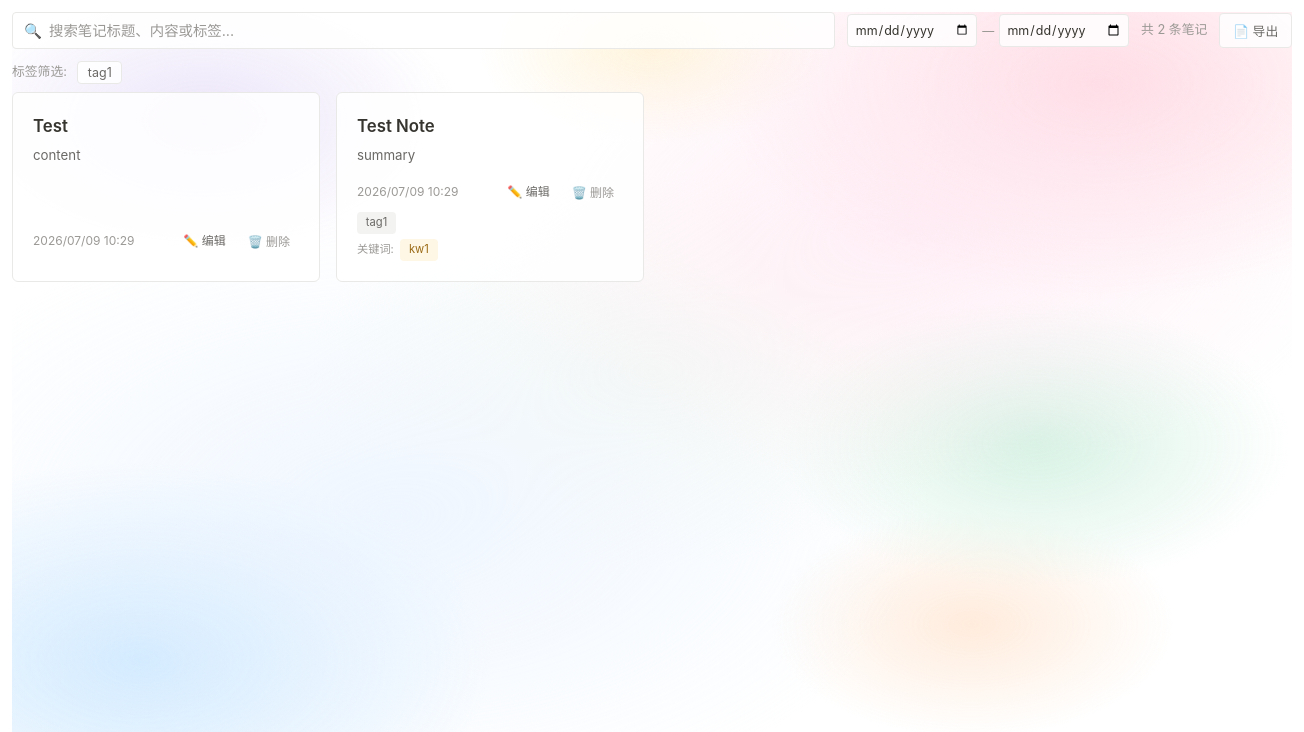
it: NoteList › shows "no results" when search finds nothing
Type "zzznonexistent" into the field with class "search-input" at {"x": 424, "y": 30}, box [12,12,835,49]
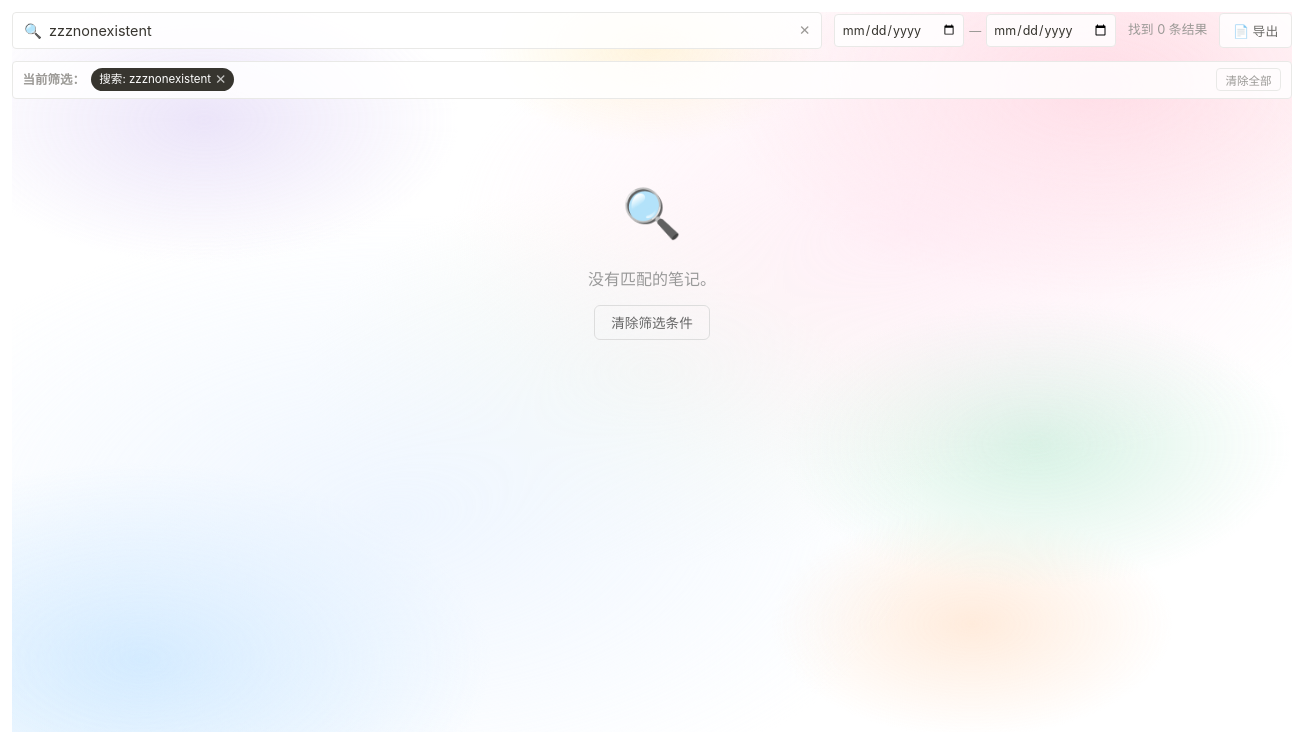
Expected: the element with class "empty-state" is shown, [588,183,716,340]
Expected: the text "没有匹配的笔记" is shown, [588,269,716,289]
